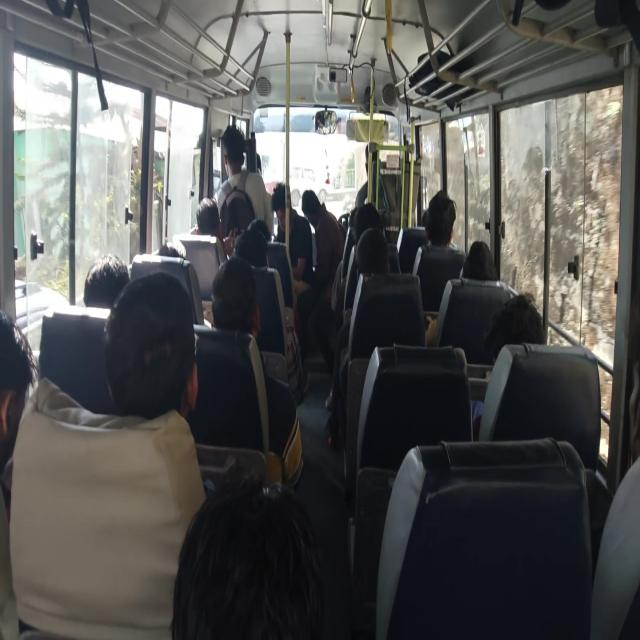person: (182, 466, 304, 628), (106, 286, 209, 434), (0, 344, 49, 438), (216, 261, 272, 315), (497, 295, 542, 350), (88, 255, 130, 308), (358, 236, 397, 286), (466, 242, 499, 300), (222, 125, 258, 178), (432, 192, 461, 252), (302, 191, 338, 237), (230, 231, 268, 271), (353, 200, 389, 234), (273, 173, 296, 224), (197, 191, 226, 231), (163, 233, 198, 264), (250, 217, 272, 244), (422, 204, 434, 232)
